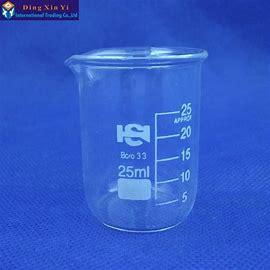Beaker: (57, 42, 210, 238)
